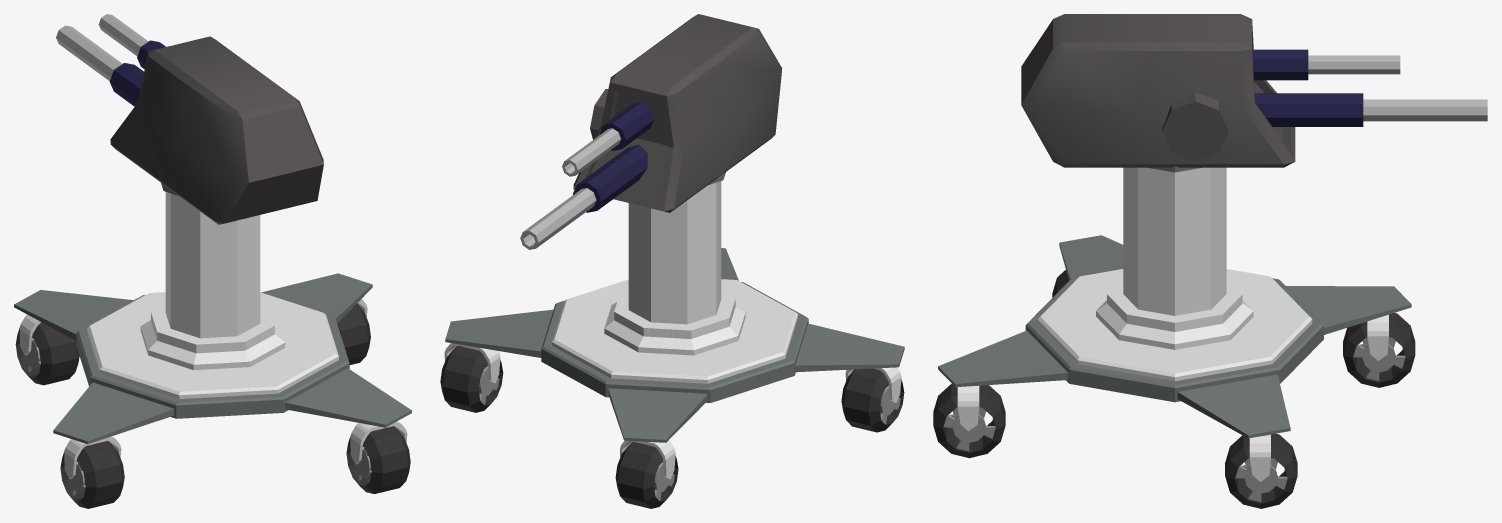
The model's file is turret2.fbx.
3 renders of one model, left to right at view 1: azimuth 30°, elevation 25°; view 2: azimuth 150°, elevation 25°; view 3: azimuth 270°, elevation 25°, orthographic. The views are drawn at different scales.
Visible parts, largest first — view 1: Circle.001, Cube, Cylinder.003, Cylinder.002, Cylinder.001, Circle.003, Cylinder, Circle.005, Circle.002, Cube.005, Cube.004, Cube.003; view 2: Circle.001, Cube, Cylinder, Cylinder.001, Cylinder.002, Circle.005, Circle.003, Circle.004, Circle.002, Cube.003, Cube.002, Cube.004; view 3: Circle.001, Cube, Cylinder, Cylinder.003, Circle.005, Cube.001, Cylinder.001, Circle.003, Circle.002, Circle.004, Cube.005, Cube.002 (+1 smaller).
Boxes of the visible parts, x1,y1,x2,y2 form: Circle.001: (14,183,411,444); Cube: (110,36,323,224); Cylinder.003: (346,426,410,493); Cylinder.002: (60,441,124,508); Cylinder.001: (15,322,79,385); Circle.003: (56,25,122,80); Cylinder: (337,304,370,364); Circle.005: (109,63,143,106); Circle.002: (98,14,148,56); Cube.005: (350,421,407,464); Cube.004: (64,436,121,479); Cube.003: (19,314,41,355); Circle.001: (445,172,904,442); Cube: (573,14,782,212); Cylinder: (440,345,503,412); Cylinder.001: (615,441,678,508); Cylinder.002: (841,368,904,432); Circle.005: (572,144,647,212); Circle.003: (520,188,596,249); Circle.004: (599,102,654,150); Circle.002: (562,128,620,176); Cube.003: (620,440,675,479); Cube.002: (444,343,500,383); Cube.004: (845,367,901,402); Circle.001: (938,166,1411,438); Cube: (1021,14,1295,167); Cylinder: (1225,433,1297,508); Cylinder.003: (933,383,1005,458); Circle.005: (1254,93,1363,126); Cube.001: (1162,92,1228,161); Cylinder.001: (1343,313,1415,387); Circle.003: (1363,99,1487,121); Circle.002: (1308,55,1400,74); Circle.004: (1252,49,1308,80); Cube.005: (957,385,979,431); Cube.002: (1249,434,1270,481).
Bounding box in the file's own units: 254 × 230 × 297.
